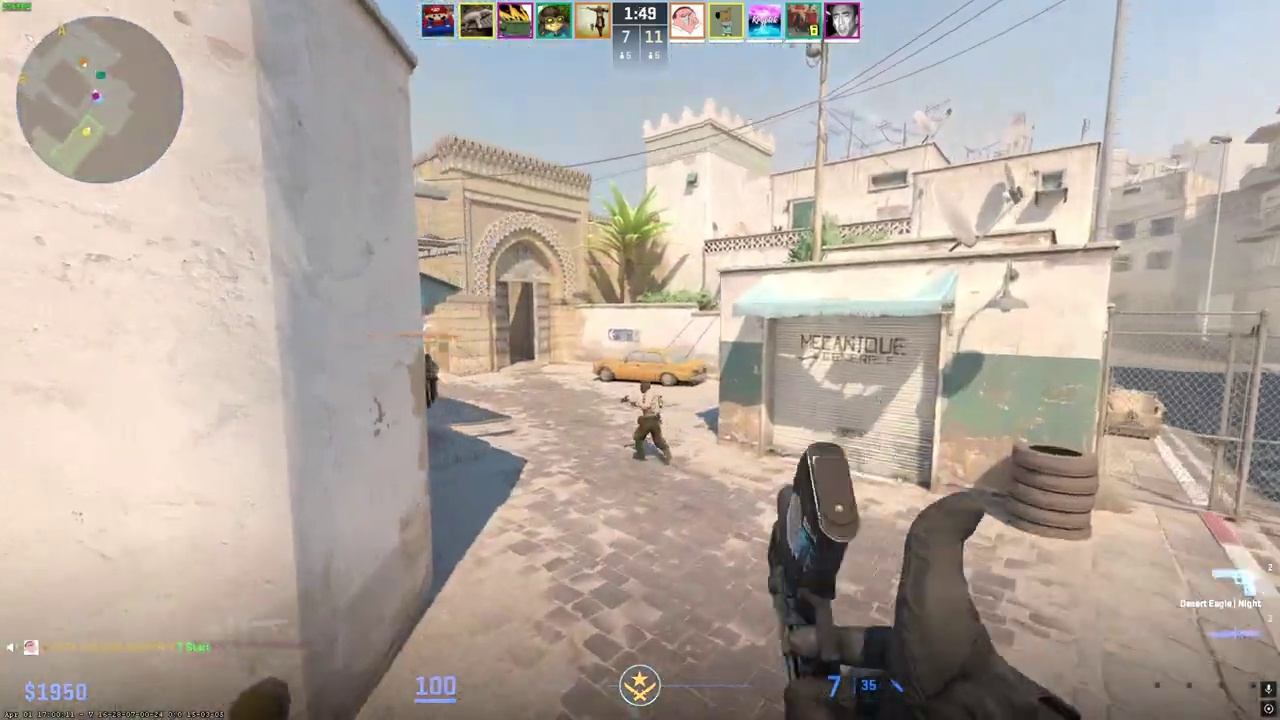Terrorist: (629, 382, 672, 465), (423, 352, 442, 409)
